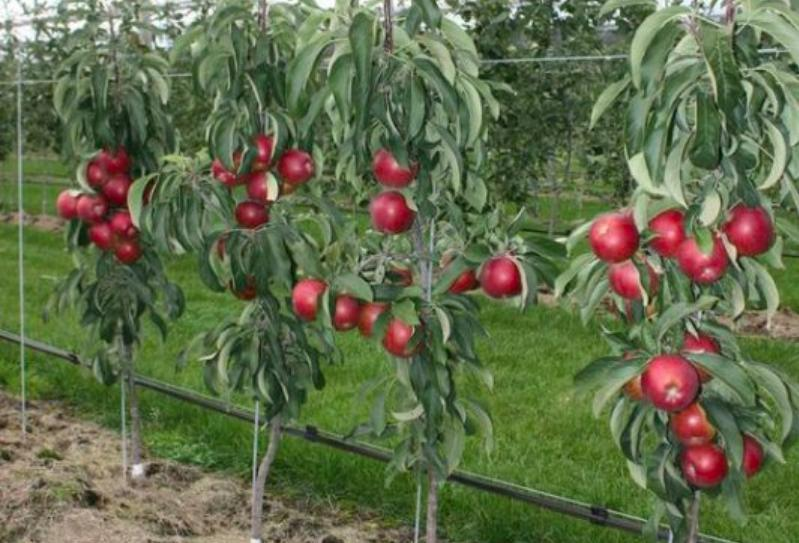apple: (639, 354, 700, 411), (681, 230, 733, 285), (645, 206, 697, 261), (588, 210, 640, 265), (723, 204, 775, 254), (610, 252, 661, 302), (670, 401, 719, 446), (681, 443, 729, 487), (477, 255, 523, 299), (372, 193, 416, 233), (372, 147, 416, 187), (382, 317, 423, 353), (291, 279, 325, 317), (328, 294, 360, 331), (358, 300, 390, 337)
